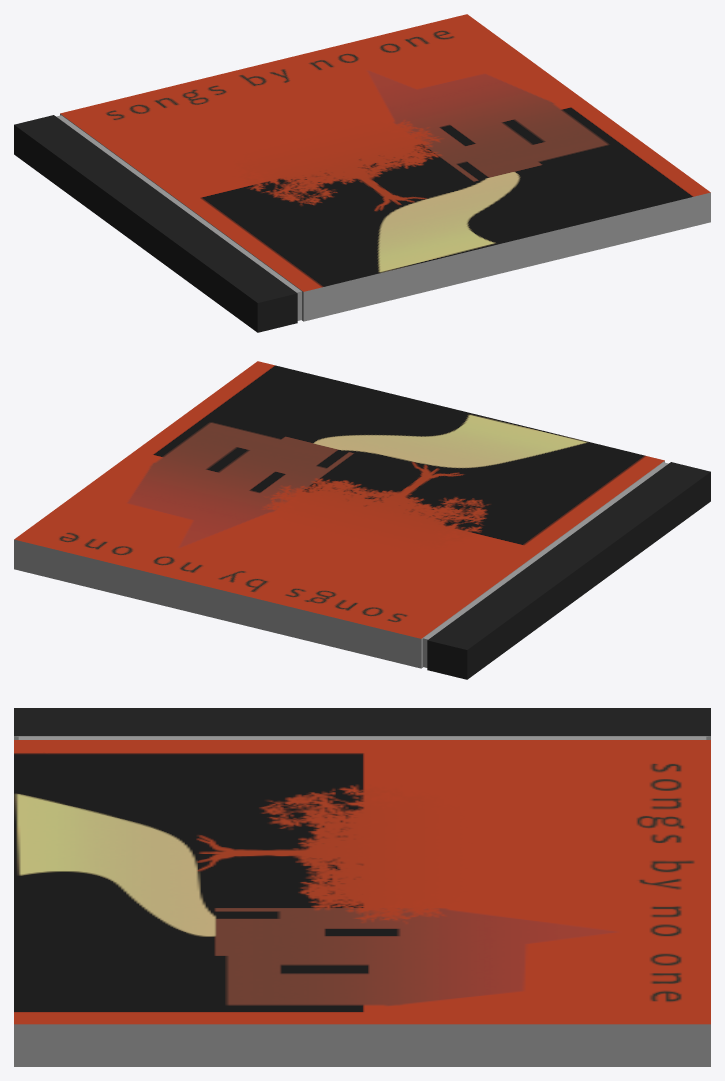
Rendered from CD_Case.fbx.
3 views of the same model, one above another, from view 1: azimuth 30°, elevation 25°; view 2: azimuth 150°, elevation 25°; view 3: azimuth 270°, elevation 25° (orthographic). The views are drawn at different scales.
Parts seen in each view (by area): view 1: CD_Case; view 2: CD_Case; view 3: CD_Case.
Part boxes in pixels (bbox=[...]): CD_Case: bbox=[14, 14, 710, 332]; CD_Case: bbox=[14, 361, 710, 679]; CD_Case: bbox=[14, 708, 710, 1066].
Size of the model in its own units: 3.1 by 0.1947 by 2.89.
